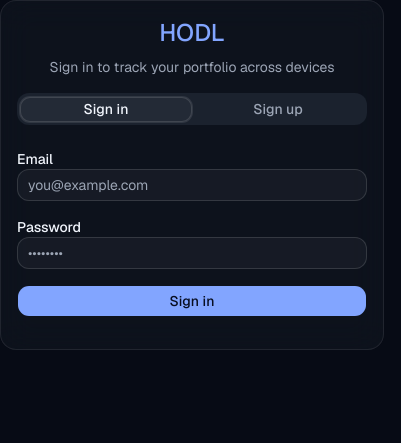
it: sign-up when the project requires email confirmation › says to check the email instead of navigating nowhere
Click the tab "Sign up".
click(278, 109)  # box [192,96,364,122]
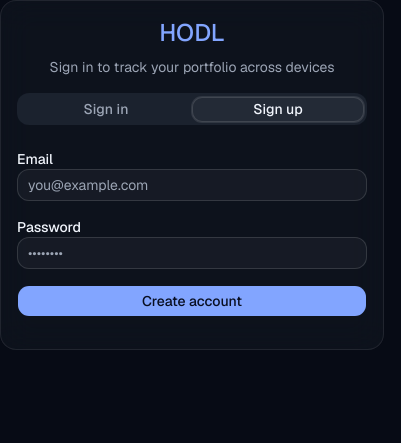
Type "someone@example.com" into the field labelled "Email".
click(192, 185); type("someone@example.com")  # box [17,169,367,201]
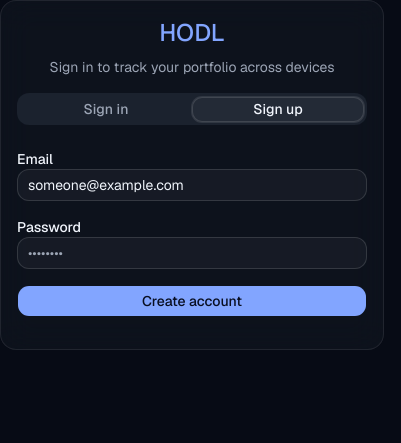
Type "hunter2hunter2" into the password field labelled "Password".
click(192, 253); type("hunter2hunter2")  # box [17,237,367,269]
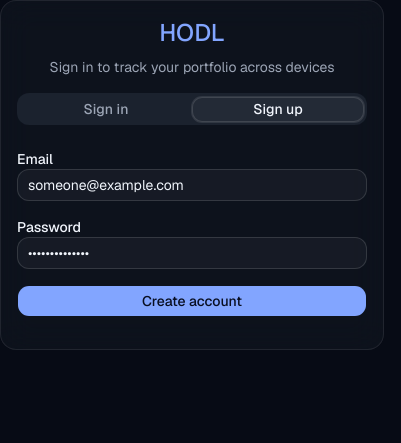
Click the button "Create account".
click(192, 301)  # box [17,285,367,317]
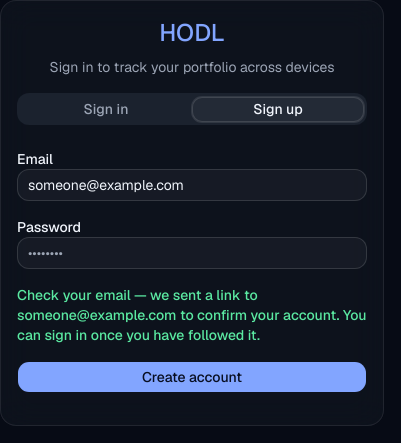
Expected: the message shows "Check your email", [17,286,366,344]
Expected: the message shows "someone@example.com", [17,286,366,344]
